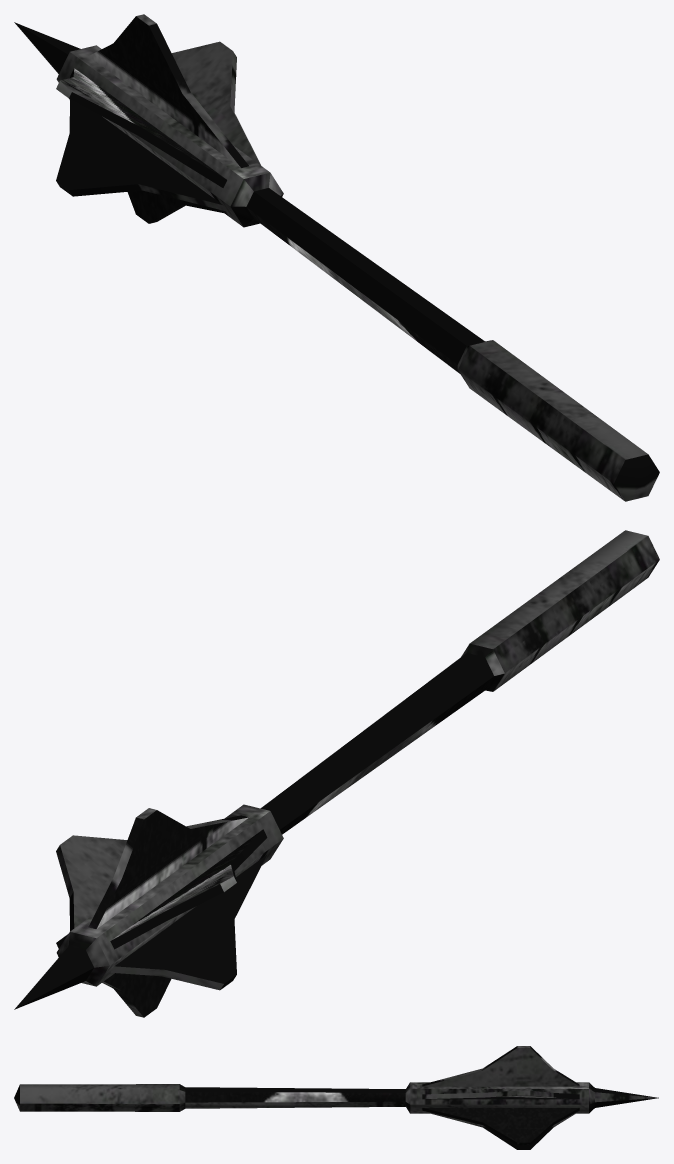
3 views of the same model, one above another, from view 1: azimuth 30°, elevation 25°; view 2: azimuth 150°, elevation 25°; view 3: azimuth 270°, elevation 25° (orthographic). The views are drawn at different scales.
Parts seen in each view (by area): view 1: mesh_0; view 2: mesh_0; view 3: mesh_0.
Boxes of the visible parts, x1,y1,x2,y2 form: mesh_0: (14, 14, 659, 501); mesh_0: (14, 530, 659, 1017); mesh_0: (14, 1046, 658, 1149).
Size of the model in its own units: 5.94 by 6.69 by 38.45.
Materials: 1 (1 with a texture image).
